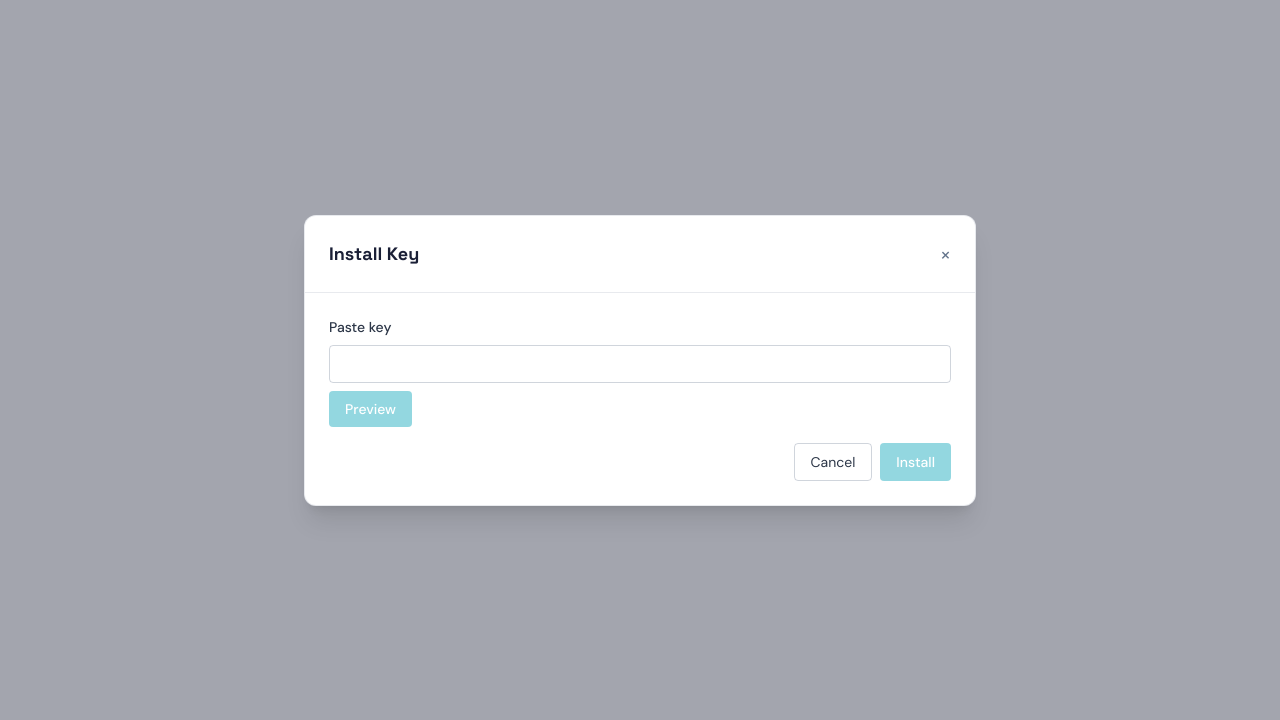
Test: InstallKeyModal › enables Install when every required field is shareable
Type "value" into the field labelled "Paste key". click: (640,364)
box: [329,344,951,382]
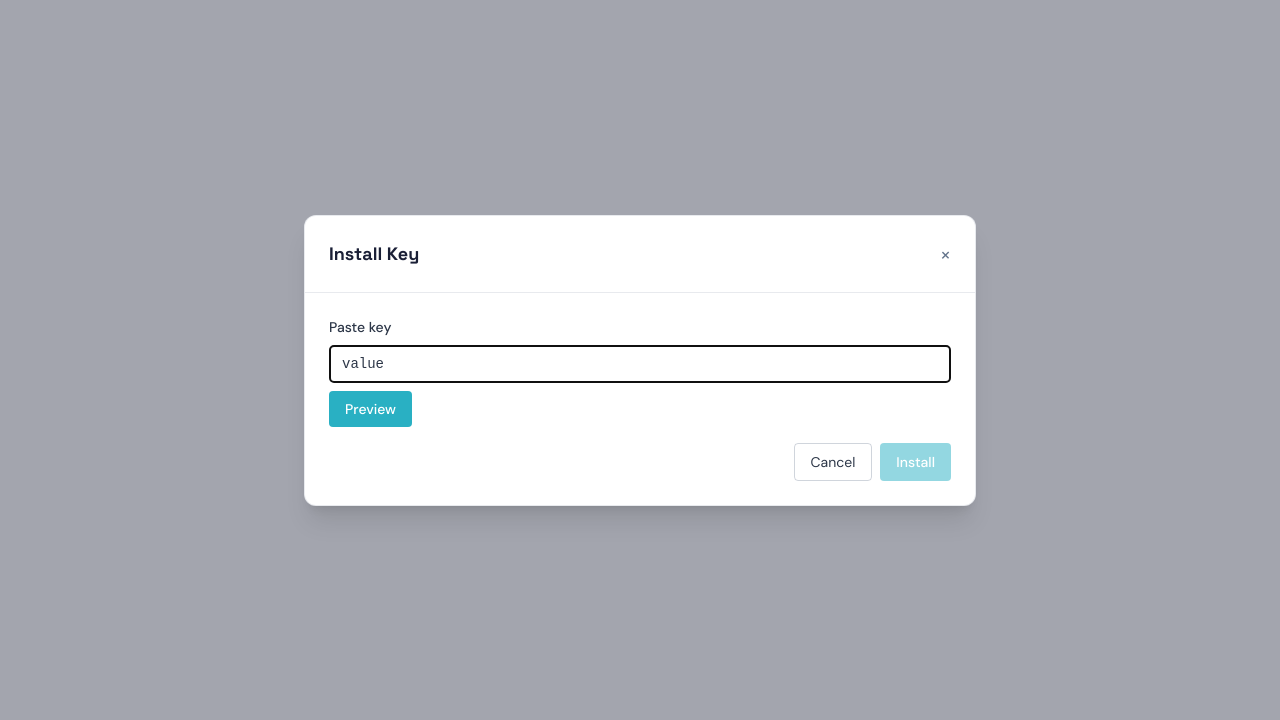
Click the button "Preview". click: (370,408)
box: [329,390,412,426]
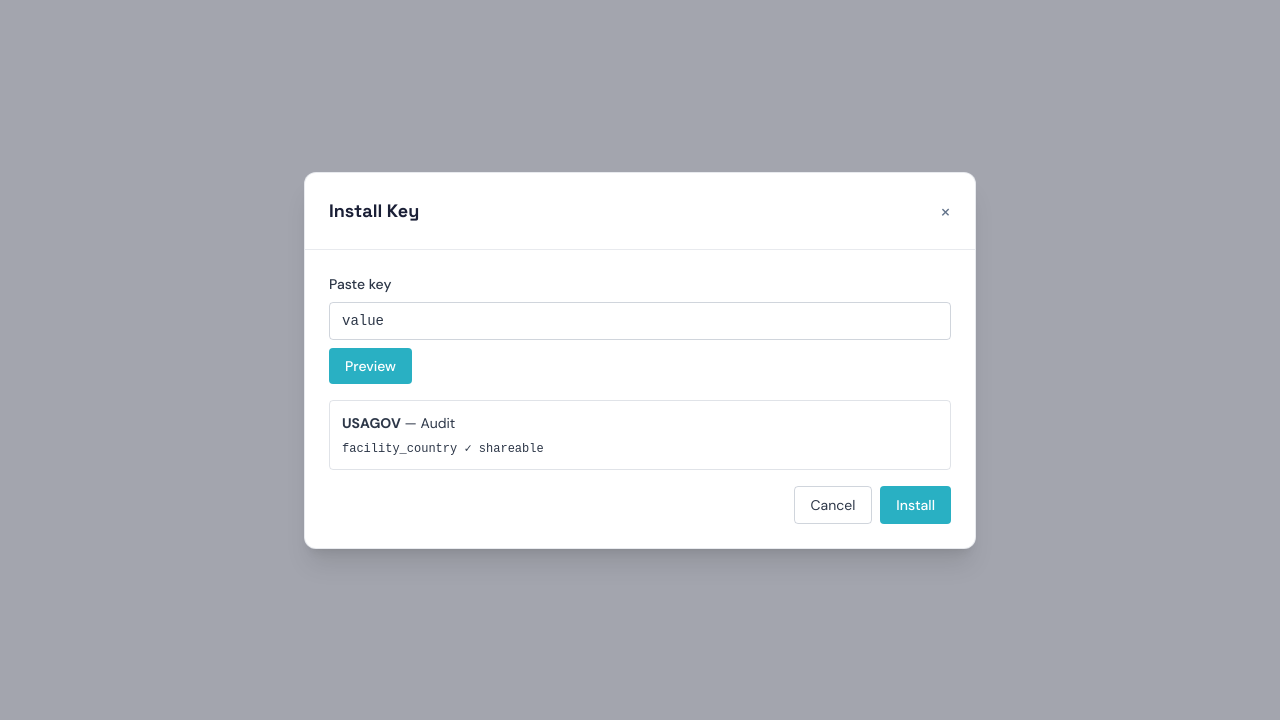
Expected: the text "USAGOV" is shown, [342,414,401,432]
Expected: the button "Install" is enabled, [880,486,951,524]
